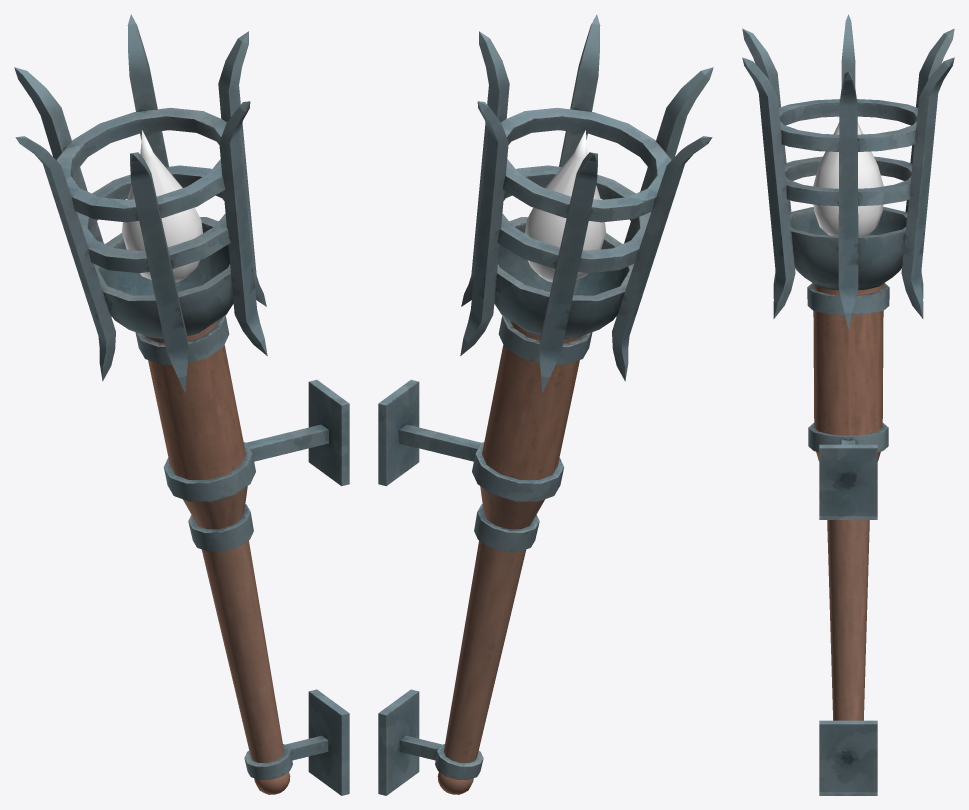
The model's file is Torch_03.fbx.
The picture shows the model from 3 angles, left to right: view 1: azimuth 30°, elevation 25°; view 2: azimuth 150°, elevation 25°; view 3: azimuth 270°, elevation 25°; orthographic projection. The views are drawn at different scales.
Parts seen in each view (by area): view 1: Torch25_pSphere6; view 2: Torch25_pSphere6; view 3: Torch25_pSphere6.
Boxes of the visible parts, <box> form: Torch25_pSphere6: <box>14,14,349,795</box>; Torch25_pSphere6: <box>378,14,713,795</box>; Torch25_pSphere6: <box>742,14,954,795</box>.
Bounding box in the file's own units: 61.51 × 143 × 39.93.
